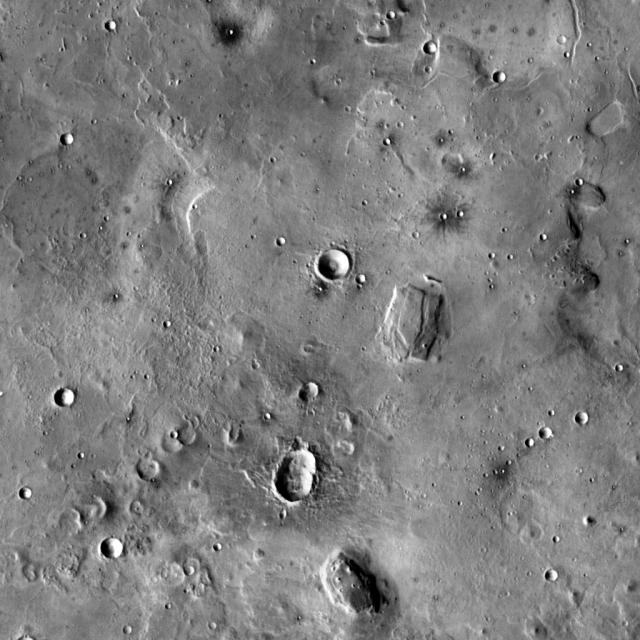crater: (8, 138, 146, 272), (277, 457, 324, 502), (322, 251, 355, 283), (159, 564, 185, 590), (100, 538, 124, 560), (65, 512, 87, 534), (136, 460, 158, 481), (53, 387, 74, 408), (85, 500, 106, 521), (168, 434, 190, 454), (443, 153, 464, 173), (301, 379, 320, 398), (183, 428, 201, 446), (422, 41, 437, 55), (18, 487, 32, 501), (60, 134, 73, 146), (548, 571, 561, 583), (132, 504, 145, 516), (494, 71, 506, 83), (538, 427, 550, 439), (105, 20, 117, 31), (576, 412, 588, 423), (357, 274, 367, 284), (184, 566, 194, 576), (123, 626, 133, 636), (386, 12, 396, 21), (557, 36, 566, 45), (304, 344, 312, 354), (162, 321, 172, 329), (76, 452, 85, 460), (526, 438, 534, 446), (214, 544, 222, 552), (214, 624, 222, 632), (170, 432, 178, 440), (252, 363, 260, 371), (280, 512, 288, 520), (616, 364, 624, 372), (383, 138, 391, 146), (275, 238, 284, 245), (264, 414, 271, 422), (540, 233, 547, 241), (440, 213, 448, 220), (412, 231, 420, 238), (372, 12, 379, 20), (550, 530, 557, 537), (577, 178, 583, 186), (424, 66, 432, 72), (549, 410, 556, 416), (458, 211, 464, 218), (80, 232, 86, 239), (165, 603, 171, 609), (499, 446, 505, 452), (166, 179, 172, 185)
